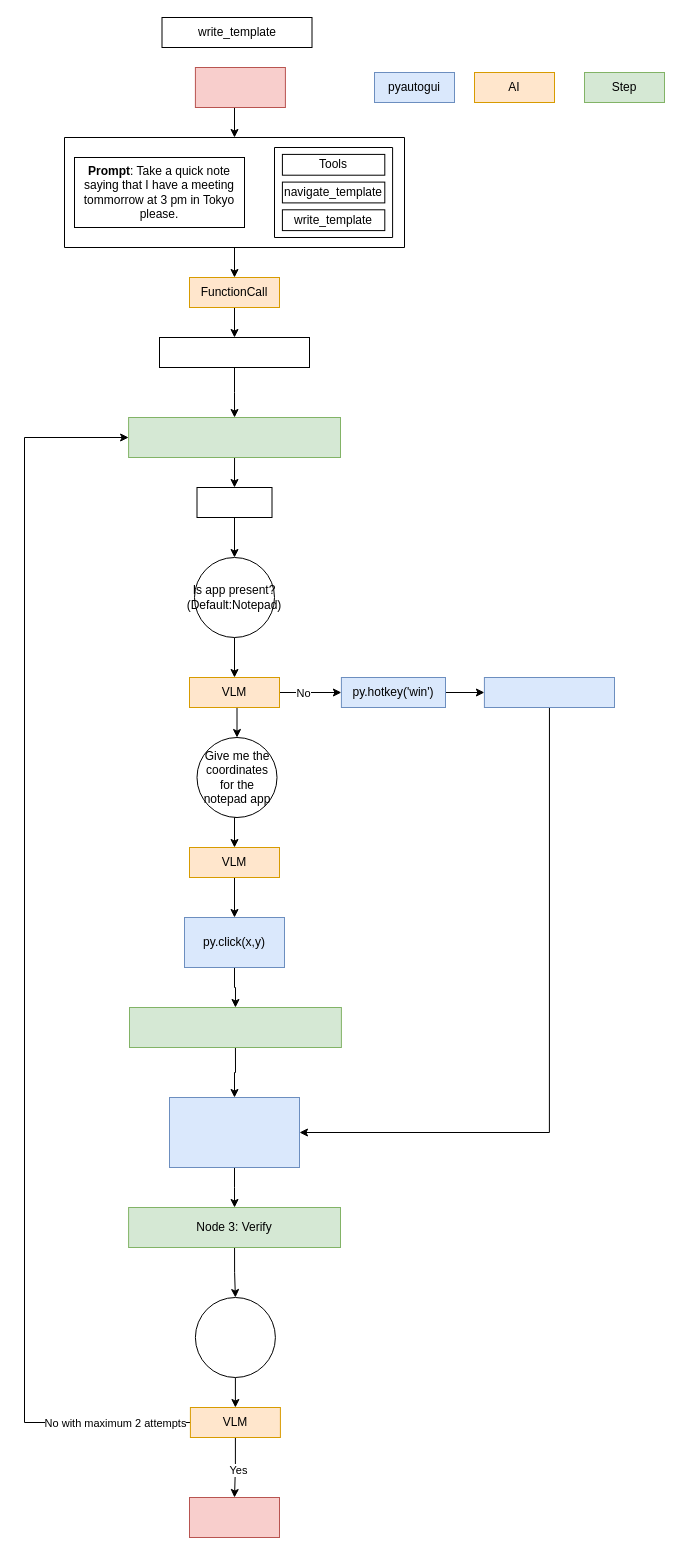
Image size: 682x1555. Some labels were removed from this diagram. The shapes that lost their labels are listed below. From the top down, each one's centre as x and y in pixels, then its label:
point (239, 87): START
point (234, 352): Tool: write_template
point (234, 437): Node 1: Launch app
point (234, 502): Screenshot
point (548, 692): py.write('app_name)'
point (234, 1027): Node 2: Type
point (234, 1132): py.write(' Meeting tommorrow at 3 pm in Tokyo')
point (234, 1337): Has the user obtained his/her goal?
point (234, 1517): END
